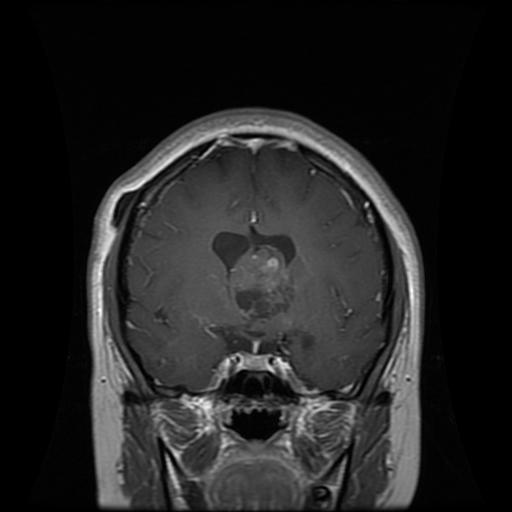Gliomia_tumour: (212, 226, 297, 320)
